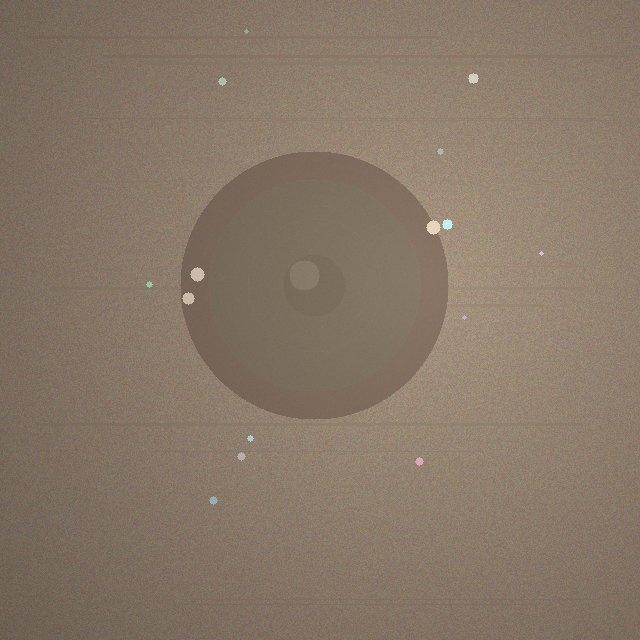overburn: (180, 151, 448, 419)
